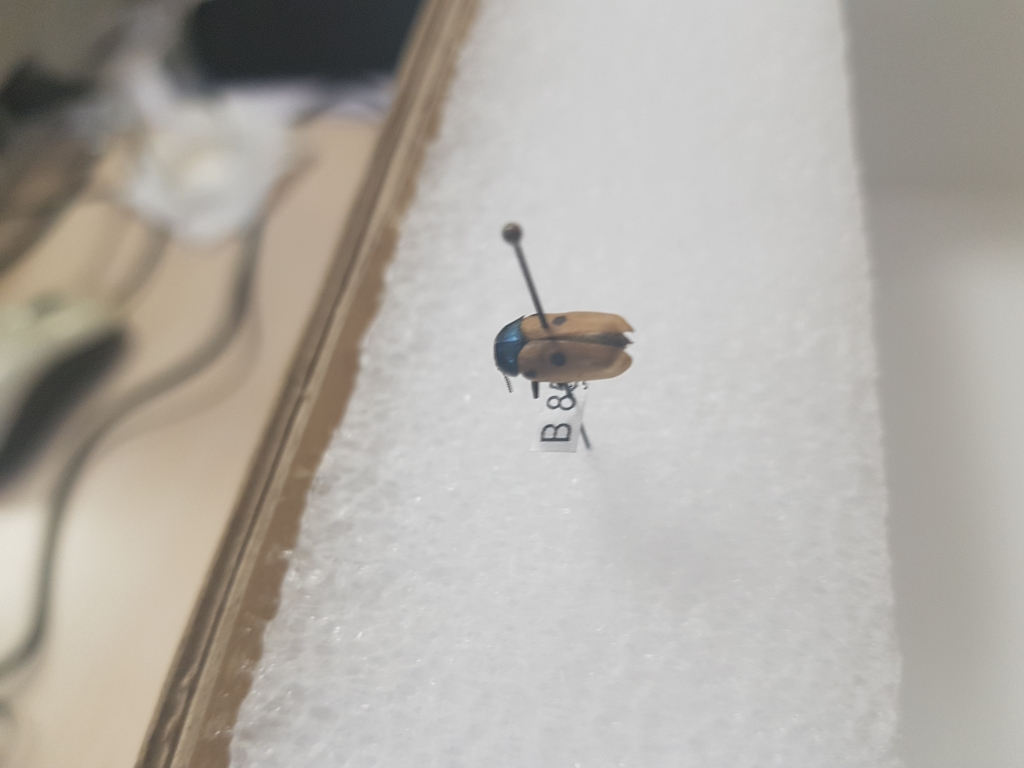Labidostomis_maculipennis: (489, 305, 641, 393)
